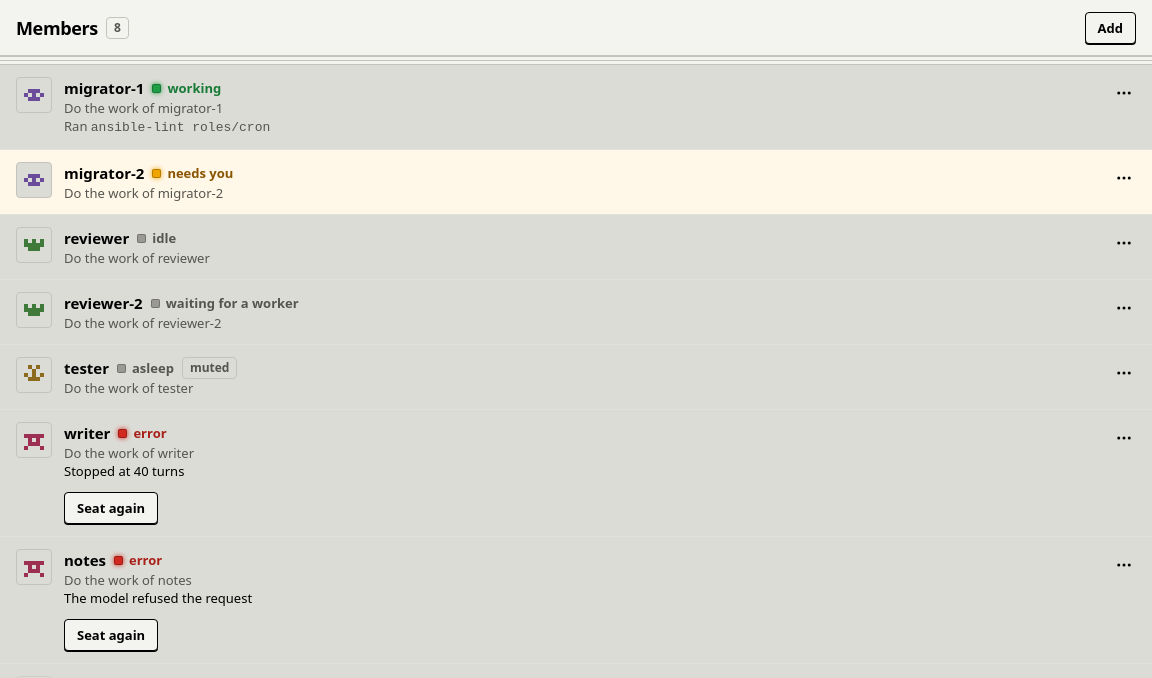
Test case: the picker of Add › seats a new seat with Seat, and drops it with Cancel
Click the button "Add": (1110, 28) left=1085, top=12, right=1136, bottom=44
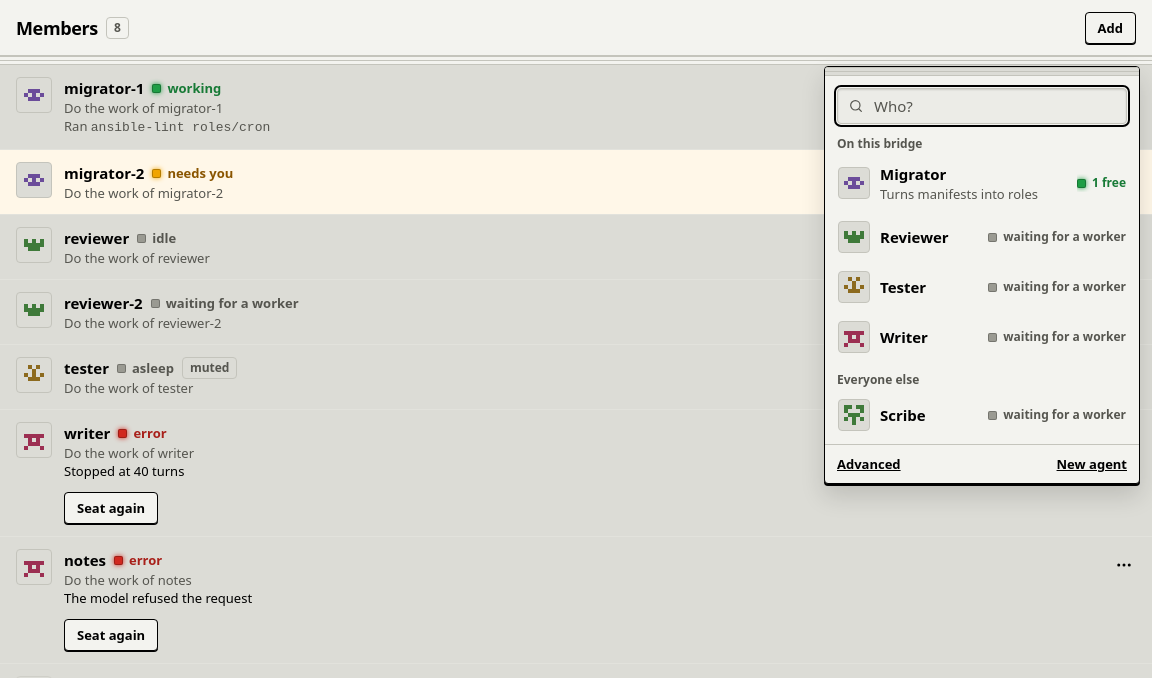
Click the button "Migrator Turns manifests into roles 1 free": (982, 183) left=829, top=154, right=1135, bottom=212
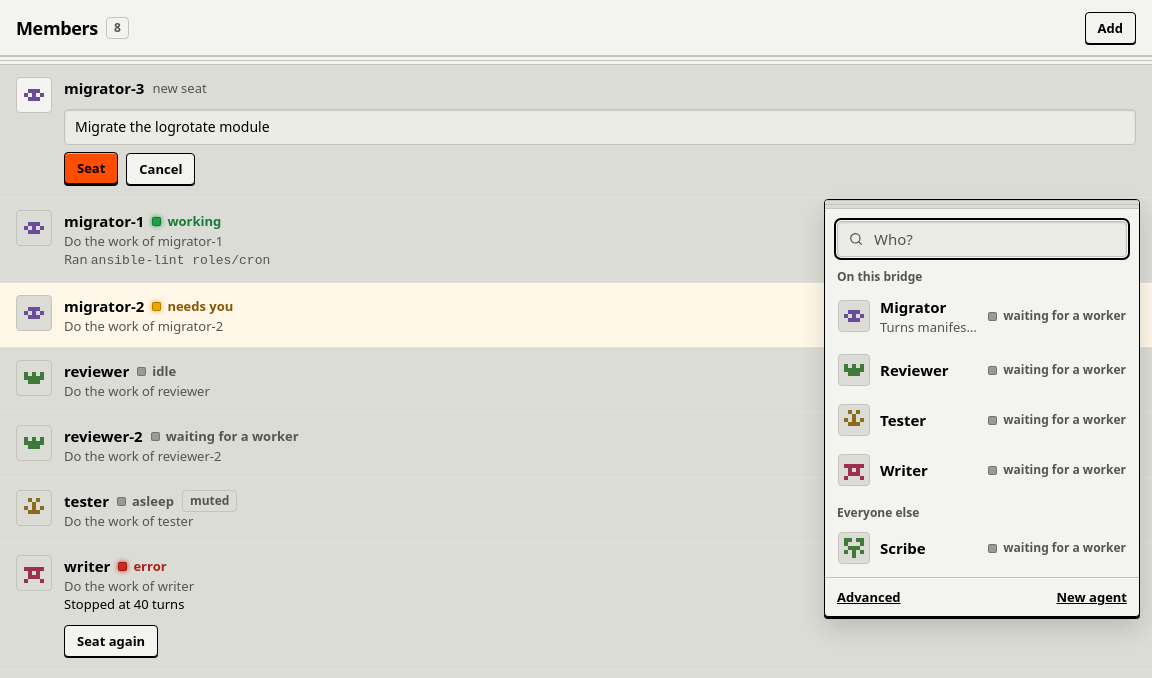
Click the button "Migrator Turns manifests into roles waiting for a worker": (982, 316) left=829, top=287, right=1135, bottom=345
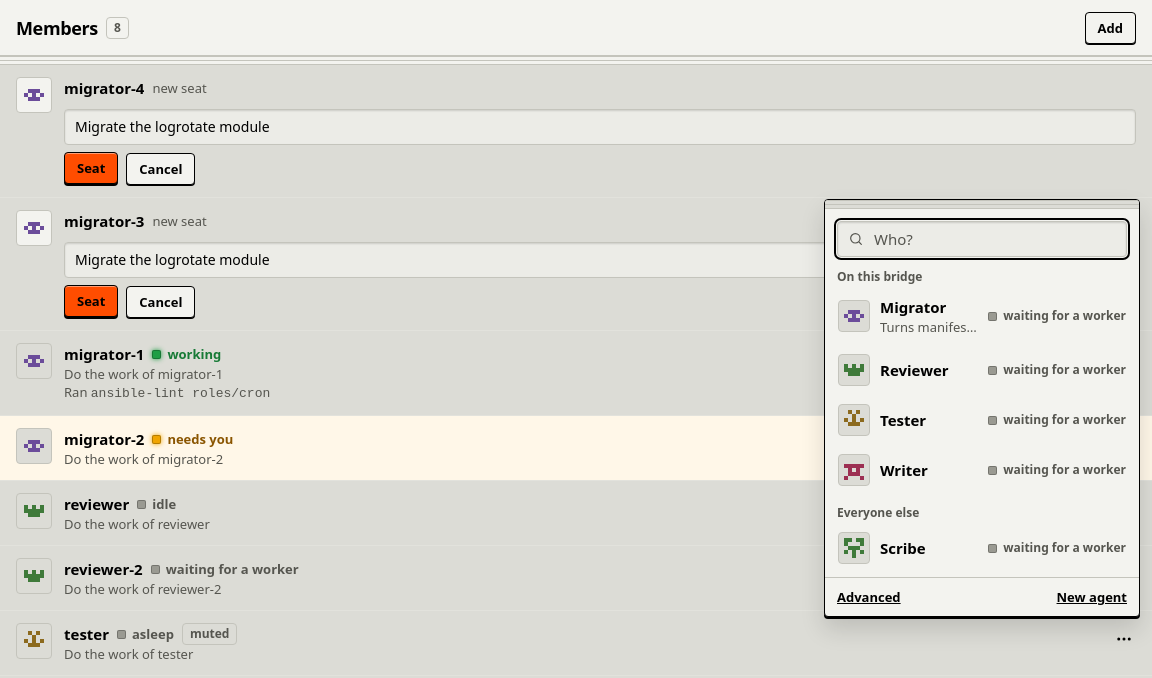
Click the button "Cancel" below "migrator-4": (161, 169) left=126, top=153, right=195, bottom=185
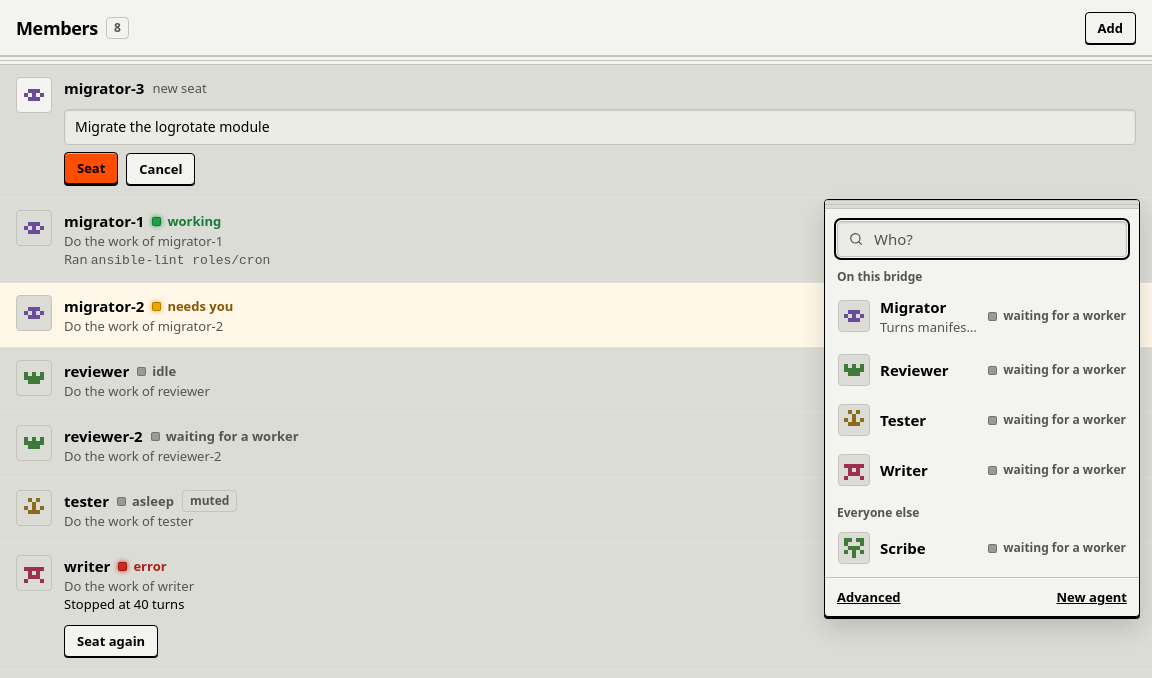
Expected: the number of list items with class "draft" is 1, left=0, top=65, right=1151, bottom=198
Click the button "Seat": (91, 168) left=64, top=152, right=118, bottom=184
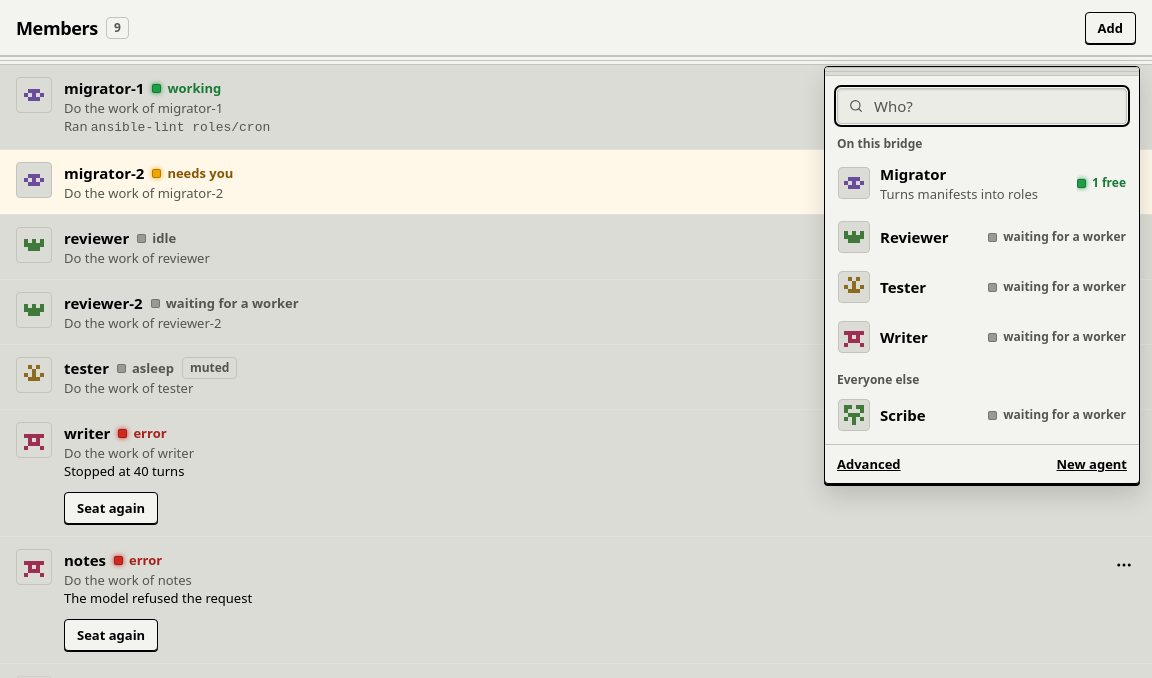
Expected: no list items with class "draft" are shown
